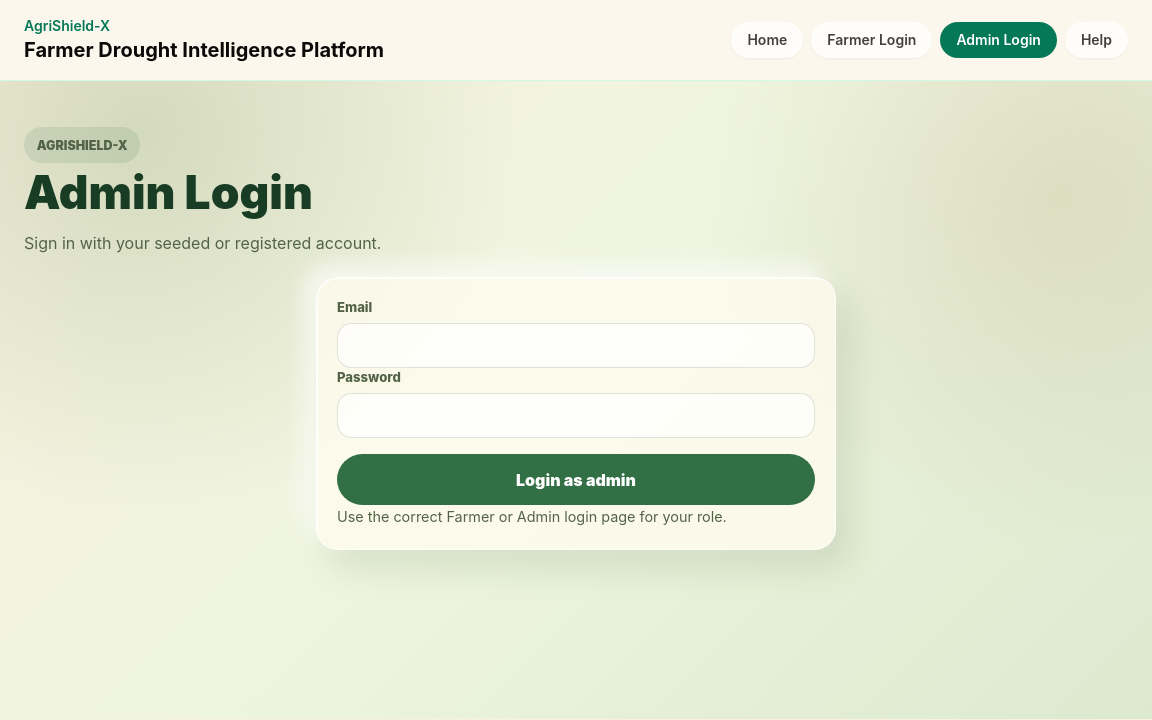
Test: admin login opens admin dashboard and admin navbar only
The image size is (1152, 720).
Expected: the heading "Admin Login" is shown, [24,164,313,220]
Type "admin@test.local" into the field labelled "Email" at (576, 346), box [337,323,815,368]
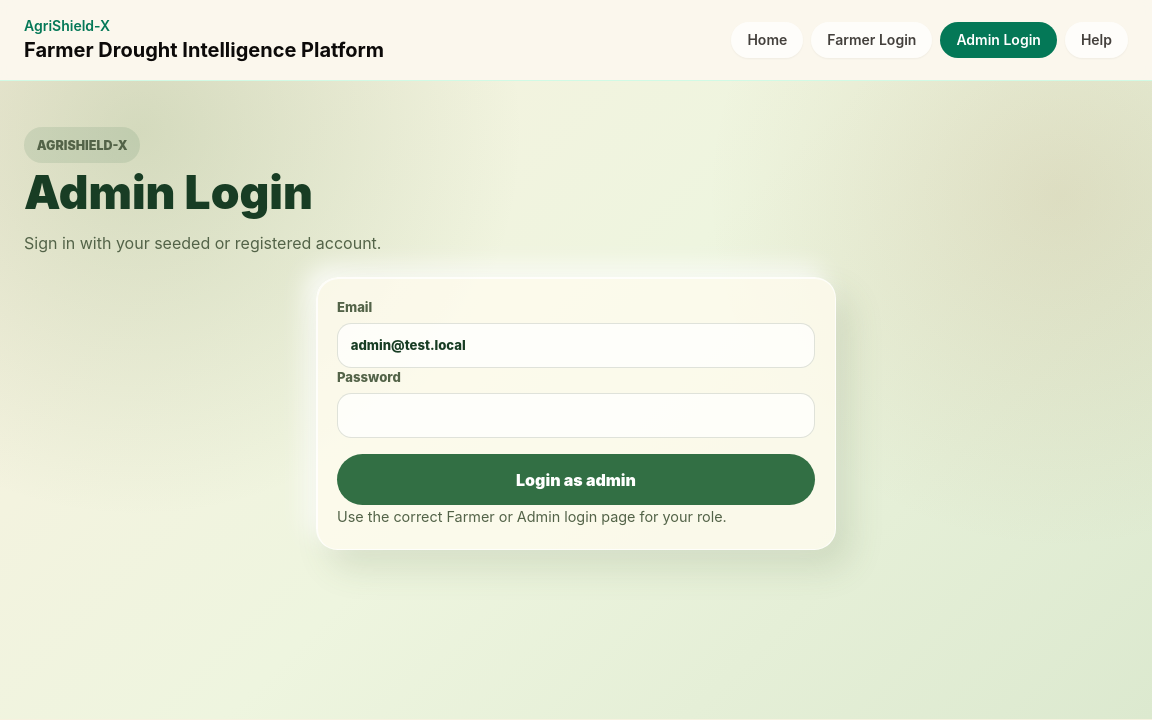
Type "Password@123" into the password field labelled "Password" at (576, 416), box [337,393,815,438]
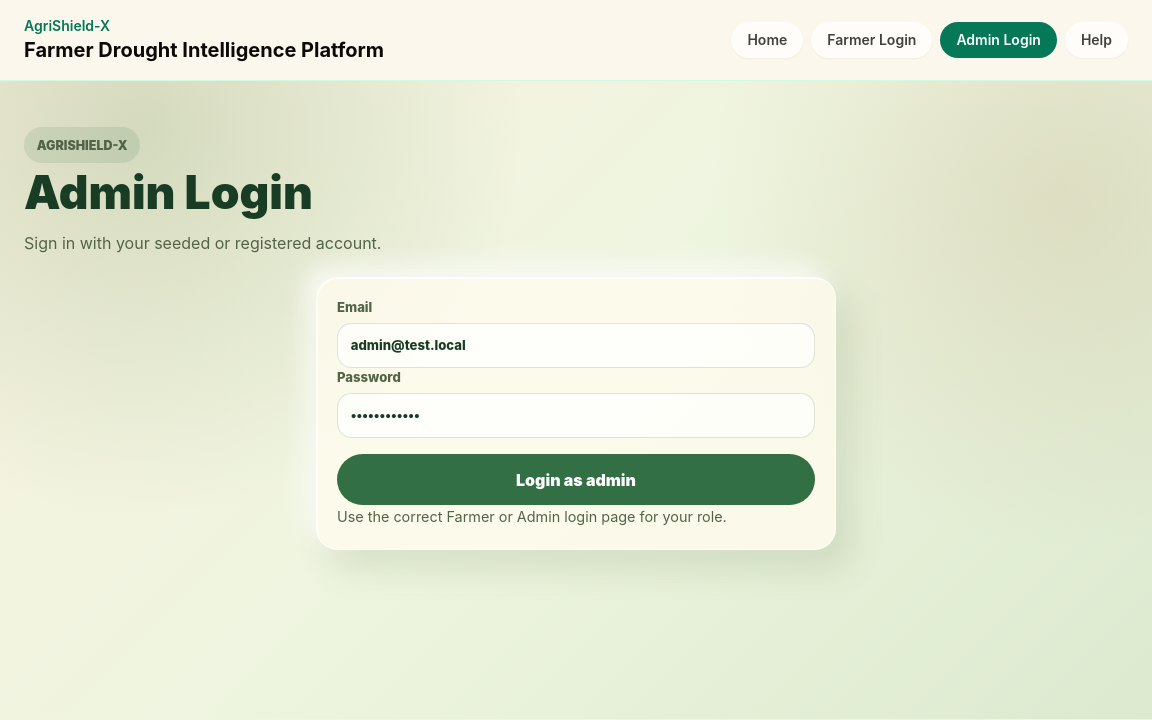
Click the button "Login as admin" at (576, 480), box [337,454,815,505]
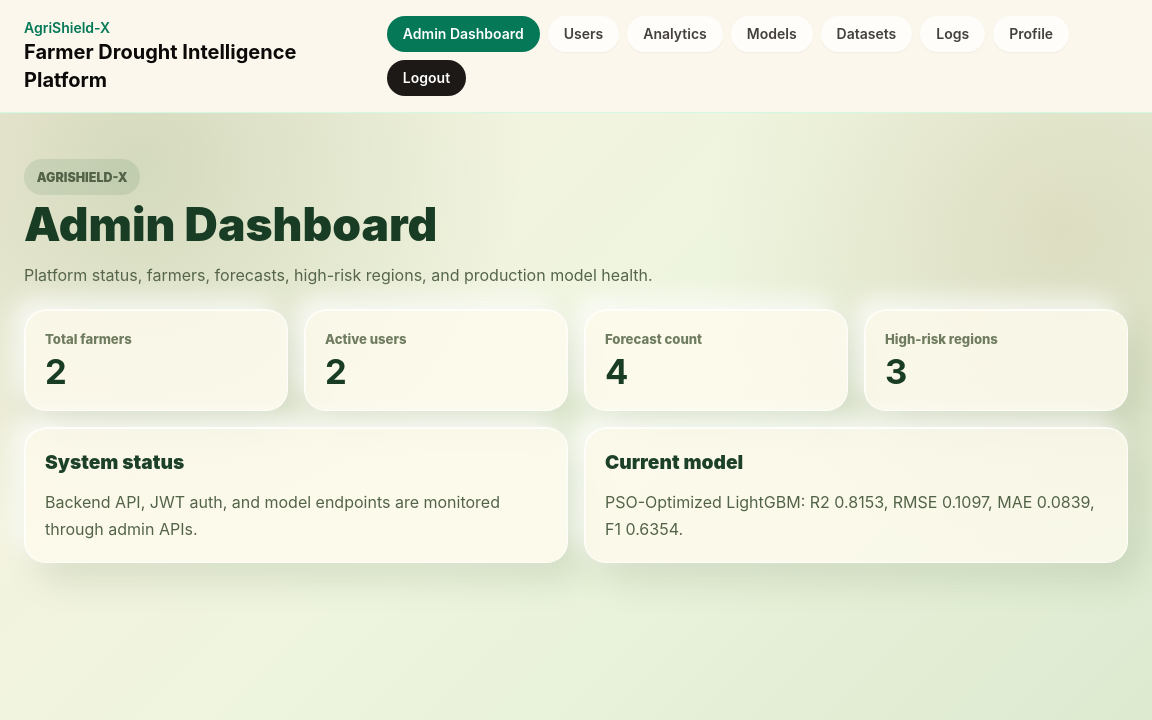
Expected: the heading "Admin Dashboard" is shown, [24,196,437,252]
Expected: the button "Users" is shown, [548,16,619,52]
Expected: the button "Farmer Login" is gone
